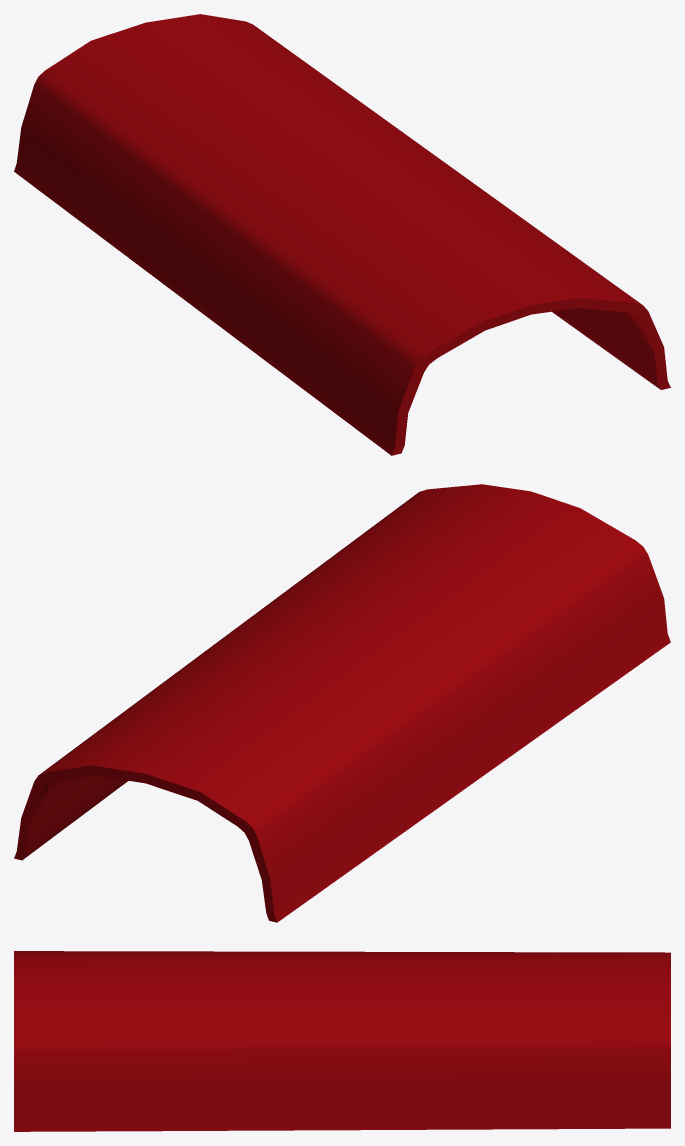
File: AM2_Vesper3_3seat.fbx
3 renders of one model, top to bottom at view 1: azimuth 30°, elevation 25°; view 2: azimuth 150°, elevation 25°; view 3: azimuth 270°, elevation 25°, orthographic. The views are drawn at different scales.
Parts seen in each view (by area): view 1: body_barrelHolder_lp; view 2: body_barrelHolder_lp; view 3: body_barrelHolder_lp.
Part boxes in pixels (x1=…): body_barrelHolder_lp: x1=14, y1=14, x2=670, y2=455; body_barrelHolder_lp: x1=14, y1=484, x2=670, y2=922; body_barrelHolder_lp: x1=14, y1=951, x2=670, y2=1131.
Bounding box in the file's own units: 21.28 × 8.51 × 50.89.
